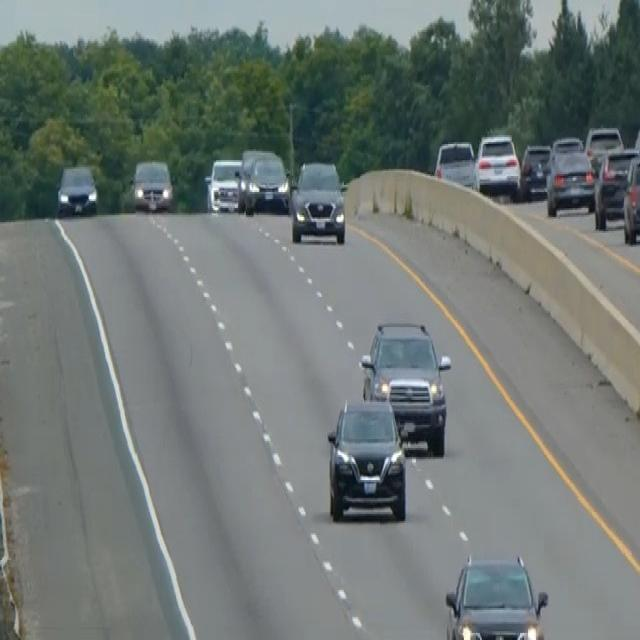car: (289, 158, 347, 244), (593, 146, 638, 229), (545, 148, 595, 215), (475, 132, 521, 199), (243, 151, 290, 213), (131, 156, 173, 212), (56, 162, 98, 217), (204, 156, 243, 214), (434, 137, 476, 188), (520, 141, 551, 199), (584, 122, 624, 164), (622, 151, 639, 244), (549, 134, 583, 158)
jeep: (359, 316, 452, 457), (324, 393, 409, 524), (443, 551, 549, 638)
